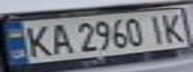0: (124, 16, 148, 47)
2: (72, 19, 96, 53)
6: (109, 16, 133, 50)
9: (93, 18, 115, 52)
A: (45, 20, 75, 56)
I: (142, 12, 172, 44)
K: (18, 22, 54, 58), (157, 9, 190, 43)
